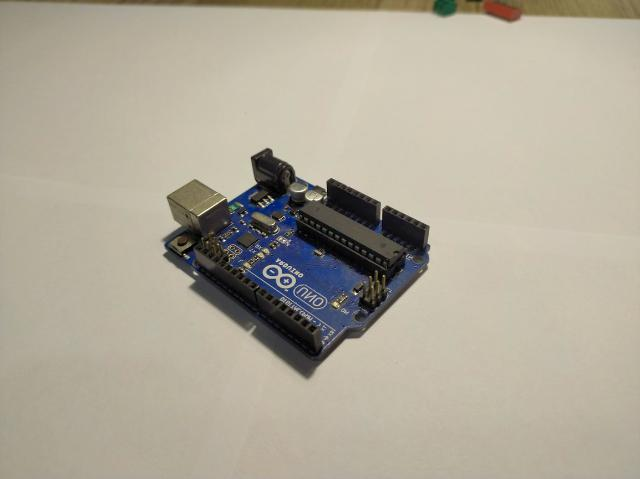arduino: (165, 148, 429, 360)
